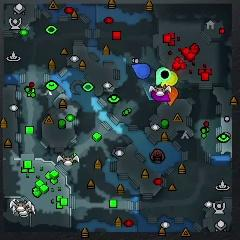p1: (130, 63, 151, 80)
p2: (155, 67, 168, 86)
p2Clone: (161, 69, 171, 81)
p3: (150, 88, 170, 102)
p4: (161, 70, 178, 87)
p5: (164, 86, 179, 106)
